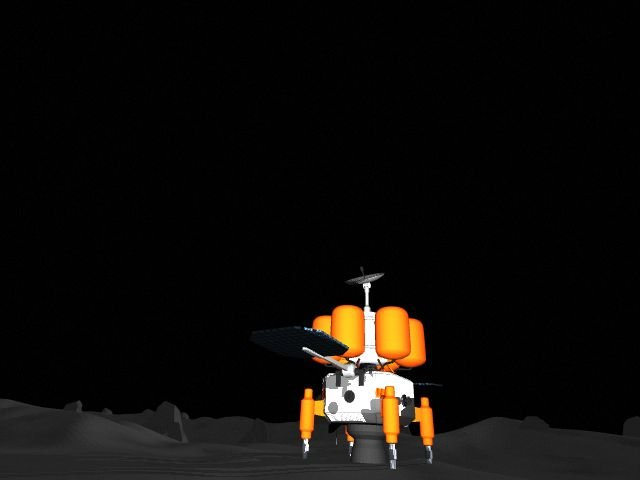homebase: (250, 258, 449, 473)
